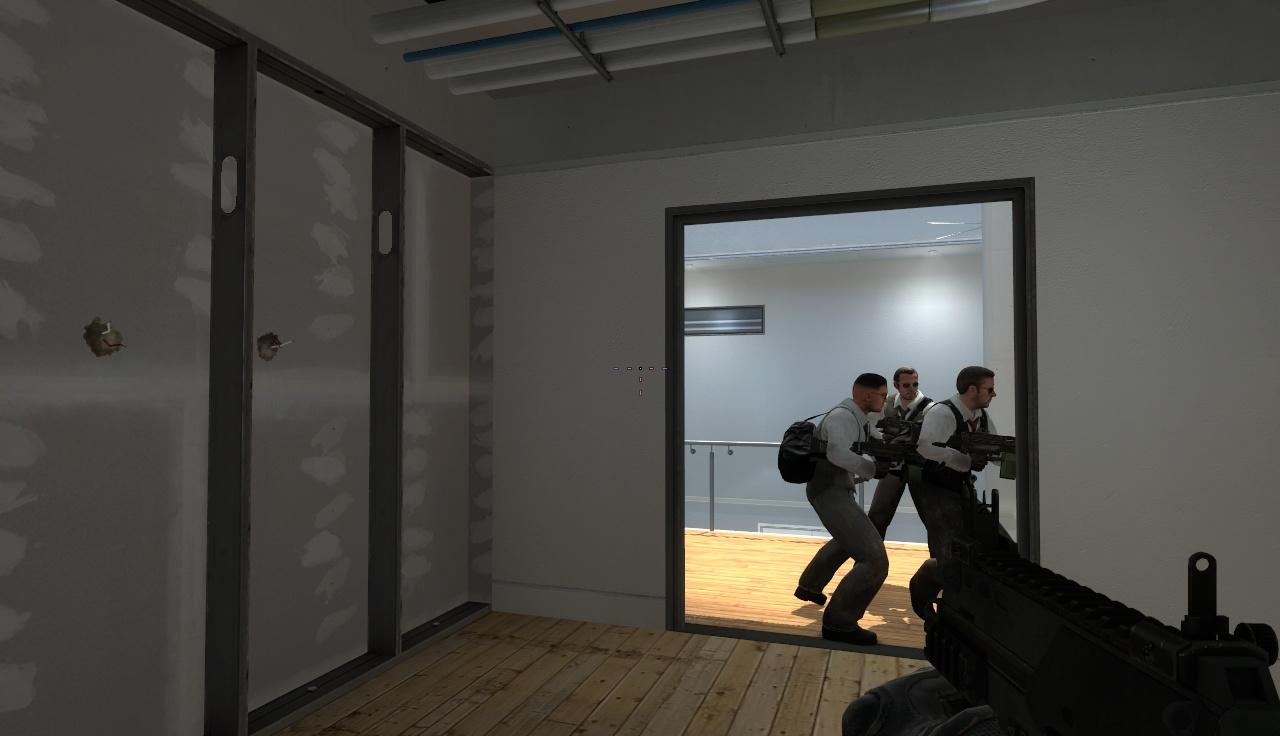rifle: (923, 488, 1280, 736)
tt: (800, 372, 891, 626), (918, 364, 999, 487), (891, 365, 918, 479)
tthead: (954, 366, 997, 409), (851, 373, 888, 414), (892, 366, 919, 400)
